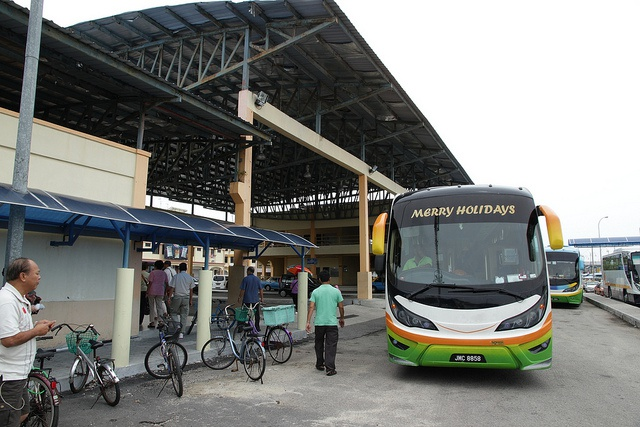non-vehicle: (199, 302, 268, 386), (52, 322, 120, 407), (145, 315, 189, 398), (241, 301, 292, 364), (22, 348, 58, 427), (186, 298, 236, 335)
